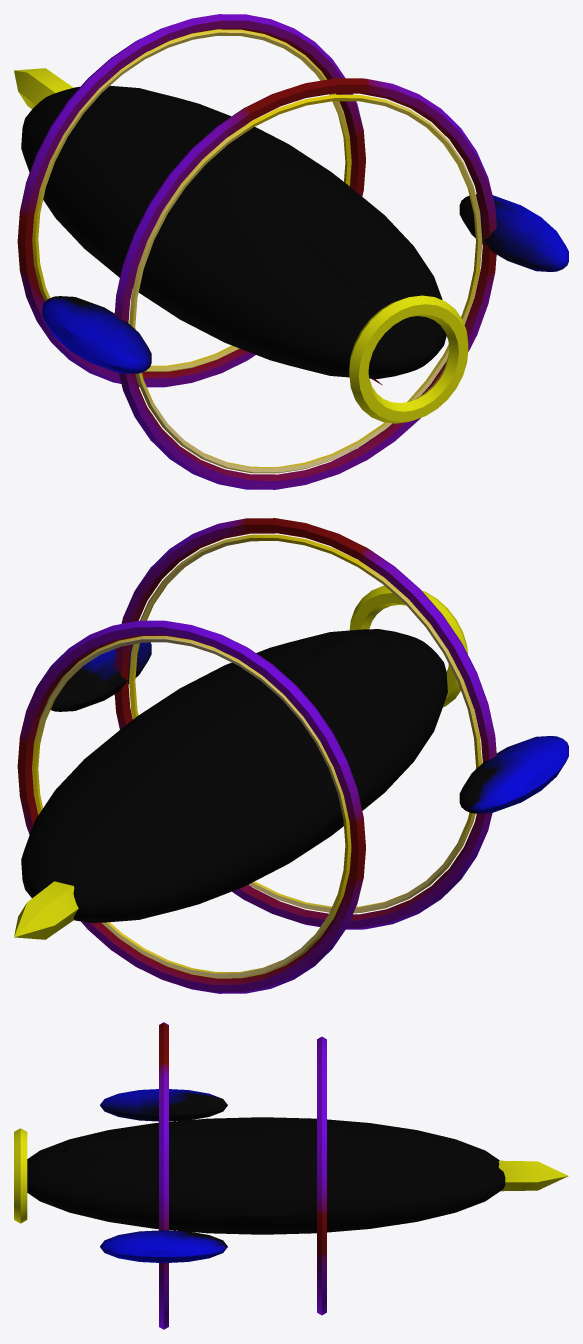
Rendered from inhumanus_parallax_cruiser.fbx.
3 views of the same model, one above another, from view 1: azimuth 30°, elevation 25°; view 2: azimuth 150°, elevation 25°; view 3: azimuth 270°, elevation 25° (orthographic). The views are drawn at different scales.
Visible parts, largest first — view 1: inhumanus_parallax_cruiser; view 2: inhumanus_parallax_cruiser; view 3: inhumanus_parallax_cruiser.
Part boxes in pixels (<box>): inhumanus_parallax_cruiser: <box>14,14,568,489</box>; inhumanus_parallax_cruiser: <box>14,518,568,993</box>; inhumanus_parallax_cruiser: <box>14,1022,568,1329</box>.
Bounding box in the file's own units: 1.21 × 0.966 × 1.74.
